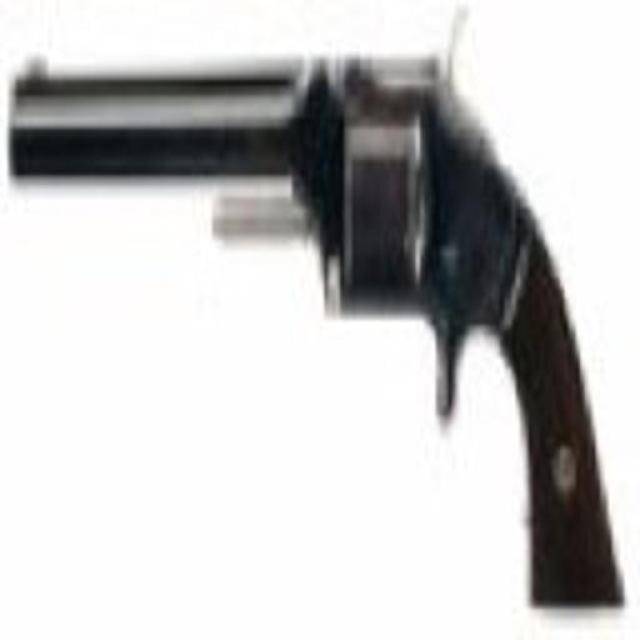pistol: (3, 21, 631, 612)
